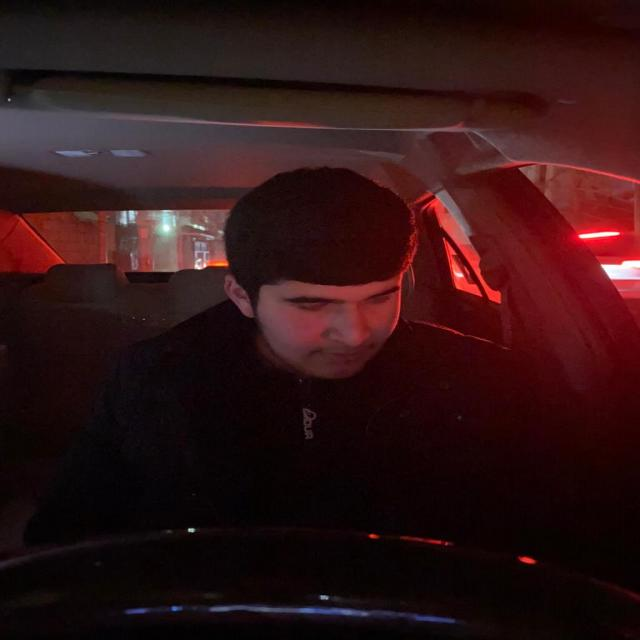drowsy: (215, 160, 427, 384)
